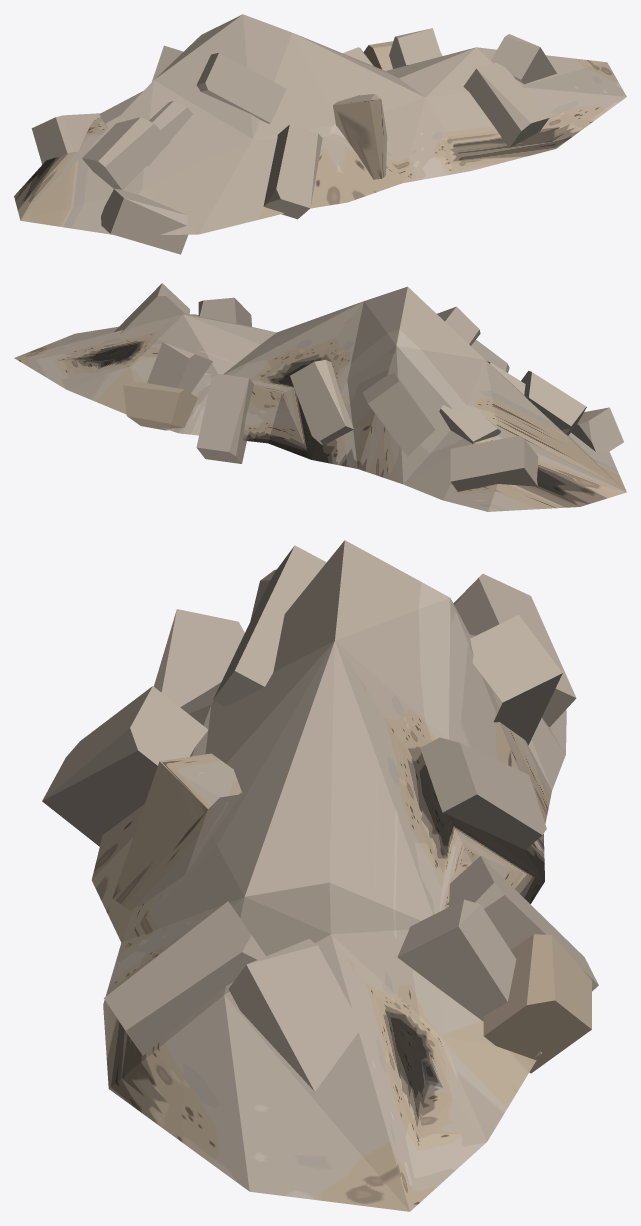
Rendered from SM_Prop_DebrisPile_04.fbx.
The picture shows the model from 3 angles, top to bottom: view 1: azimuth 30°, elevation 25°; view 2: azimuth 150°, elevation 25°; view 3: azimuth 270°, elevation 25°; orthographic projection. The views are drawn at different scales.
Visible parts, largest first — view 1: SM_Prop_DebrisPile_04; view 2: SM_Prop_DebrisPile_04; view 3: SM_Prop_DebrisPile_04.
Boxes of the visible parts, x1=… form: SM_Prop_DebrisPile_04: x1=14, y1=14, x2=626, y2=254; SM_Prop_DebrisPile_04: x1=14, y1=283, x2=626, y2=511; SM_Prop_DebrisPile_04: x1=42, y1=540, x2=598, y2=1211.
Bounding box in the file's own units: 673 × 191 × 272.
